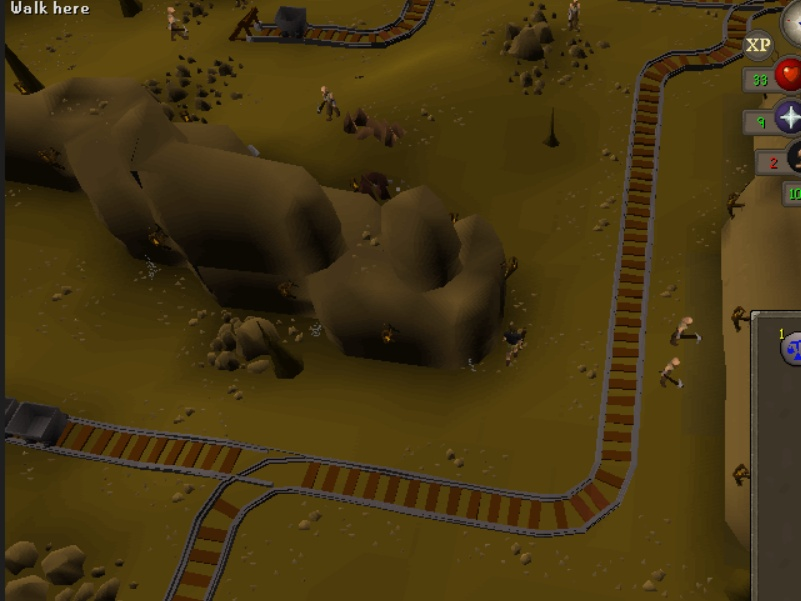copper: (338, 100, 375, 149), (377, 110, 408, 150)
iron: (357, 167, 394, 204)
